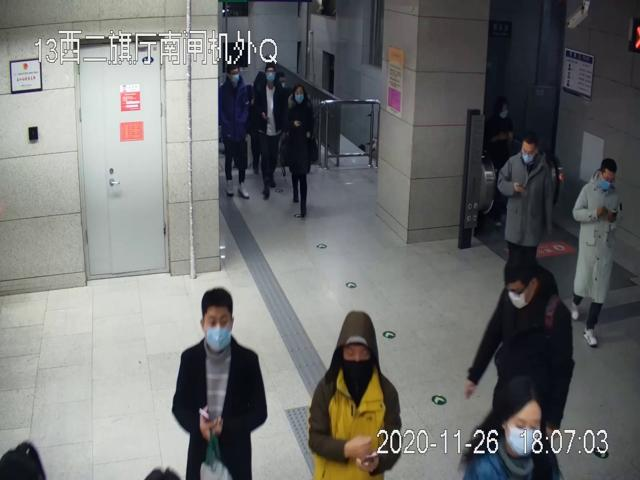person: (466, 246, 574, 441), (171, 287, 268, 480), (309, 310, 402, 480), (573, 157, 622, 347), (498, 130, 555, 285), (281, 84, 317, 216), (220, 62, 251, 198), (253, 61, 281, 200)
